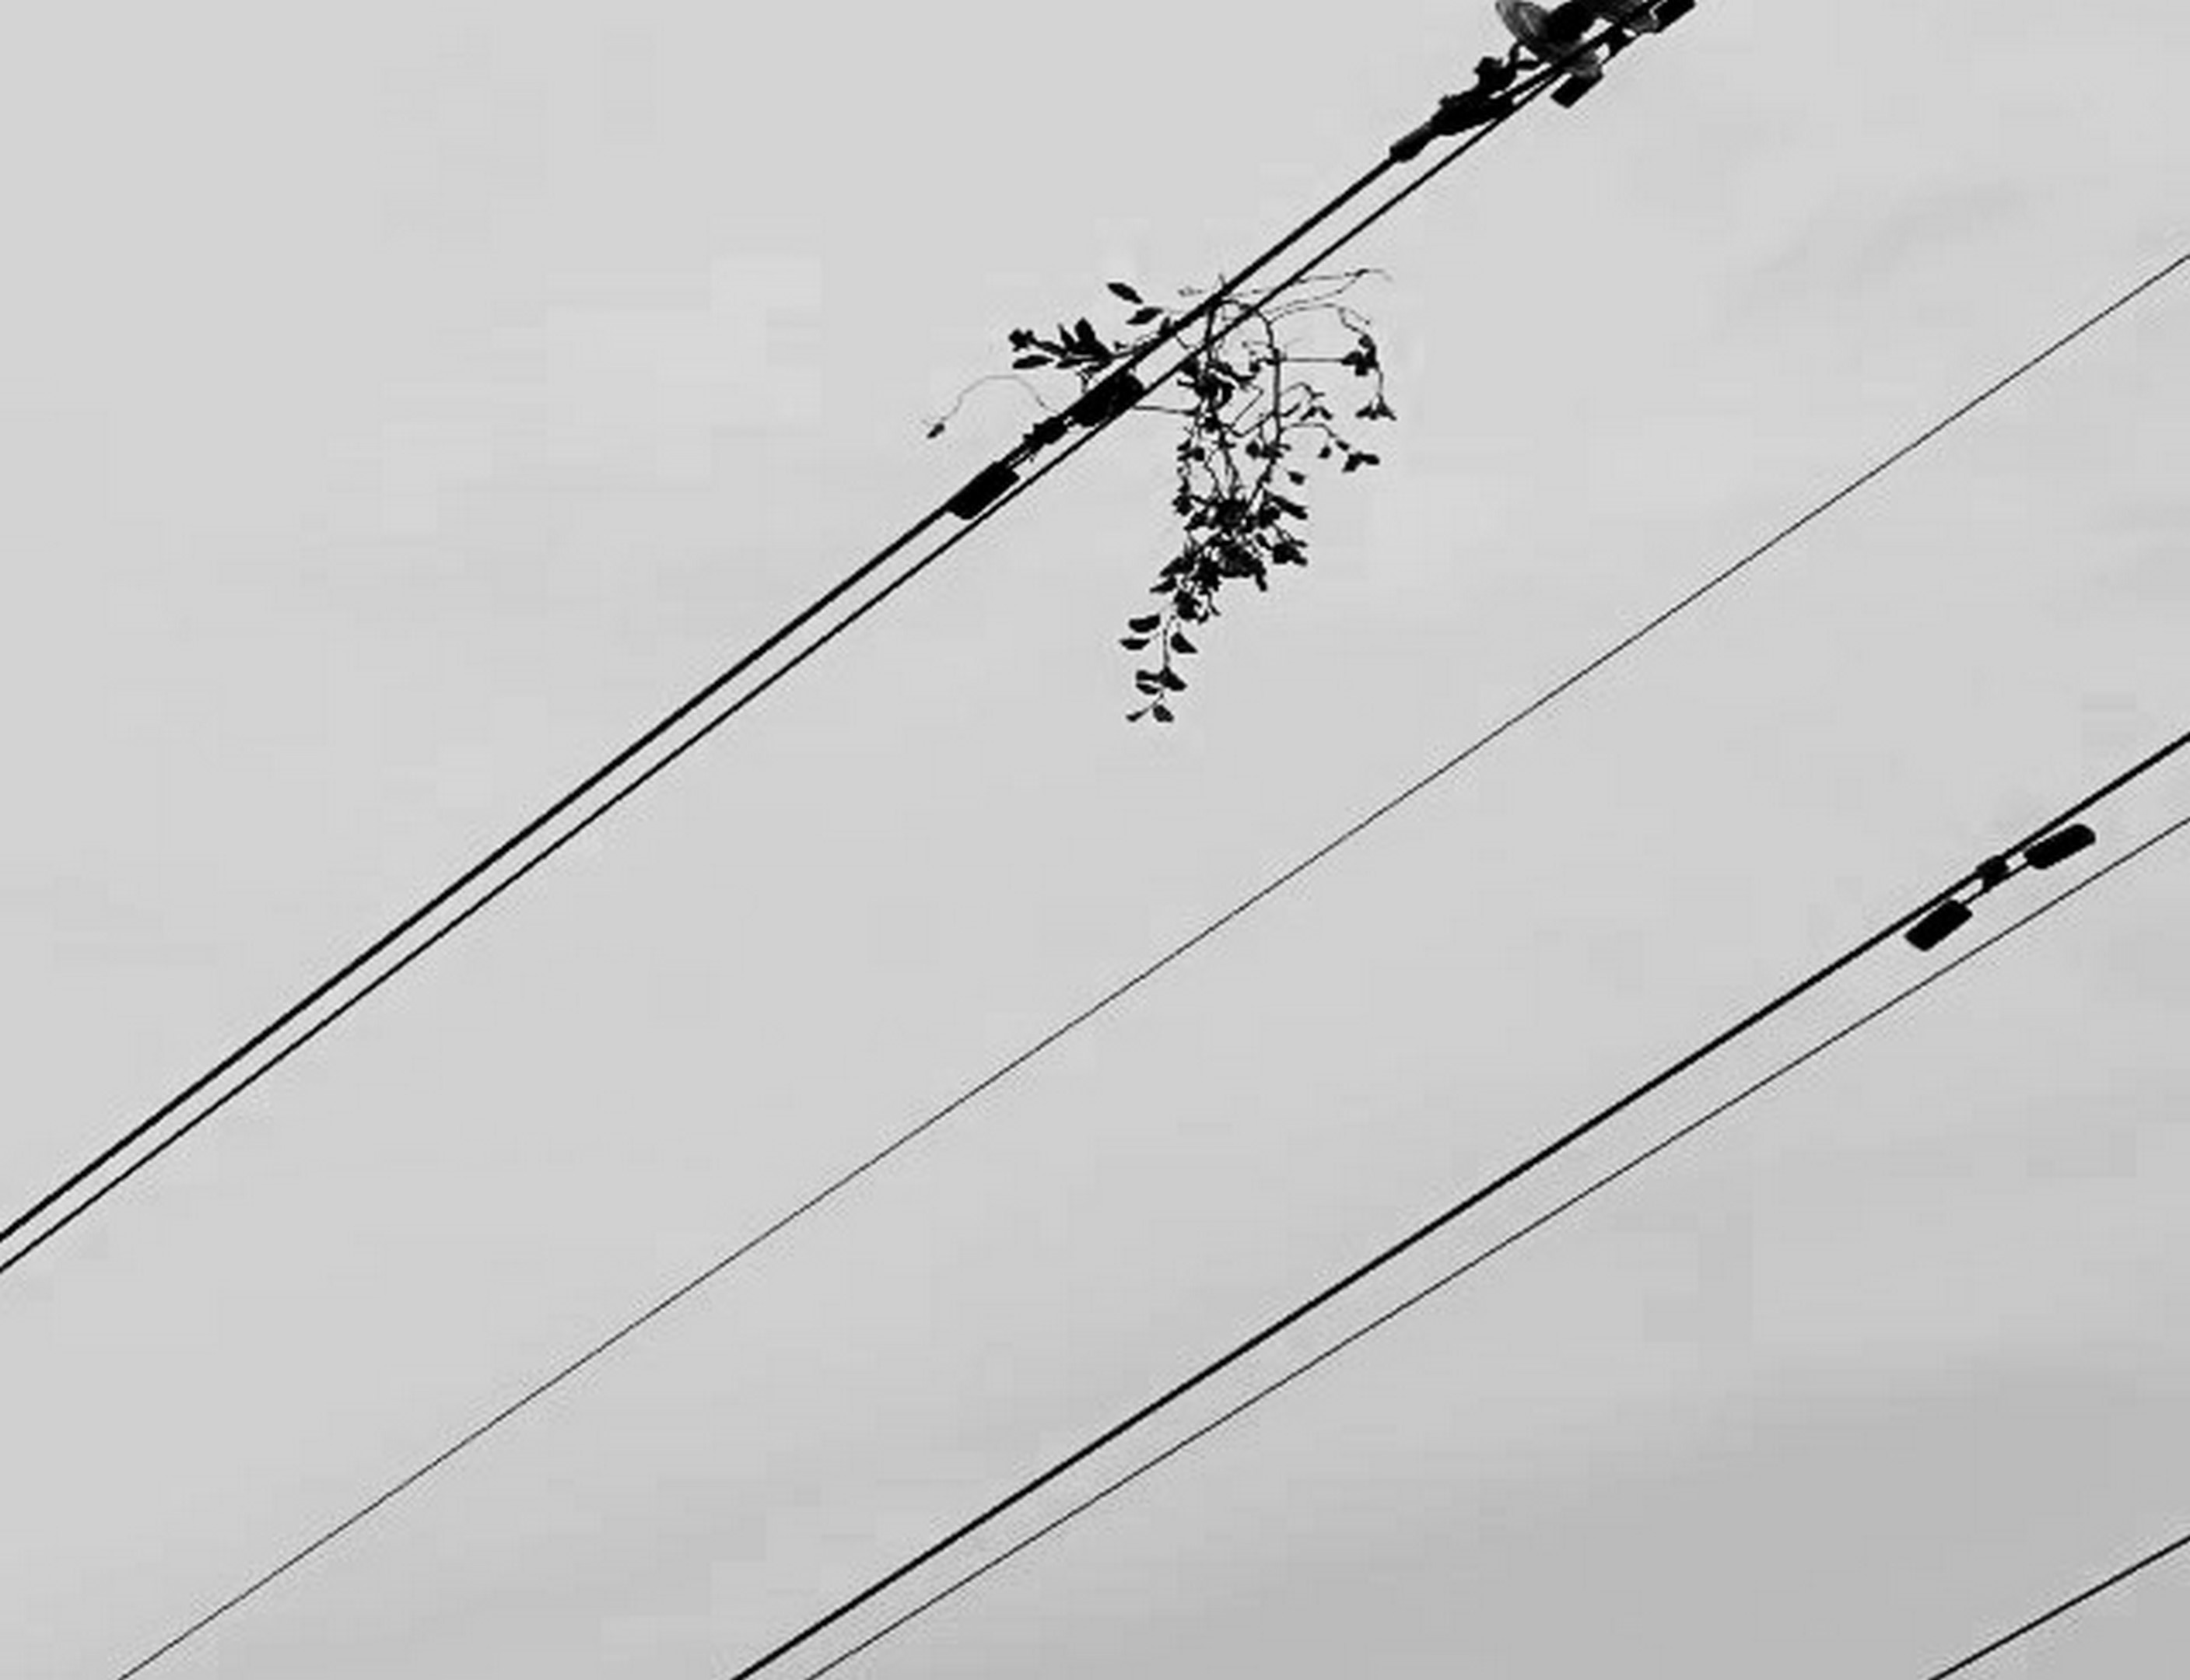wire foreign body: (1004, 233, 1444, 736)
